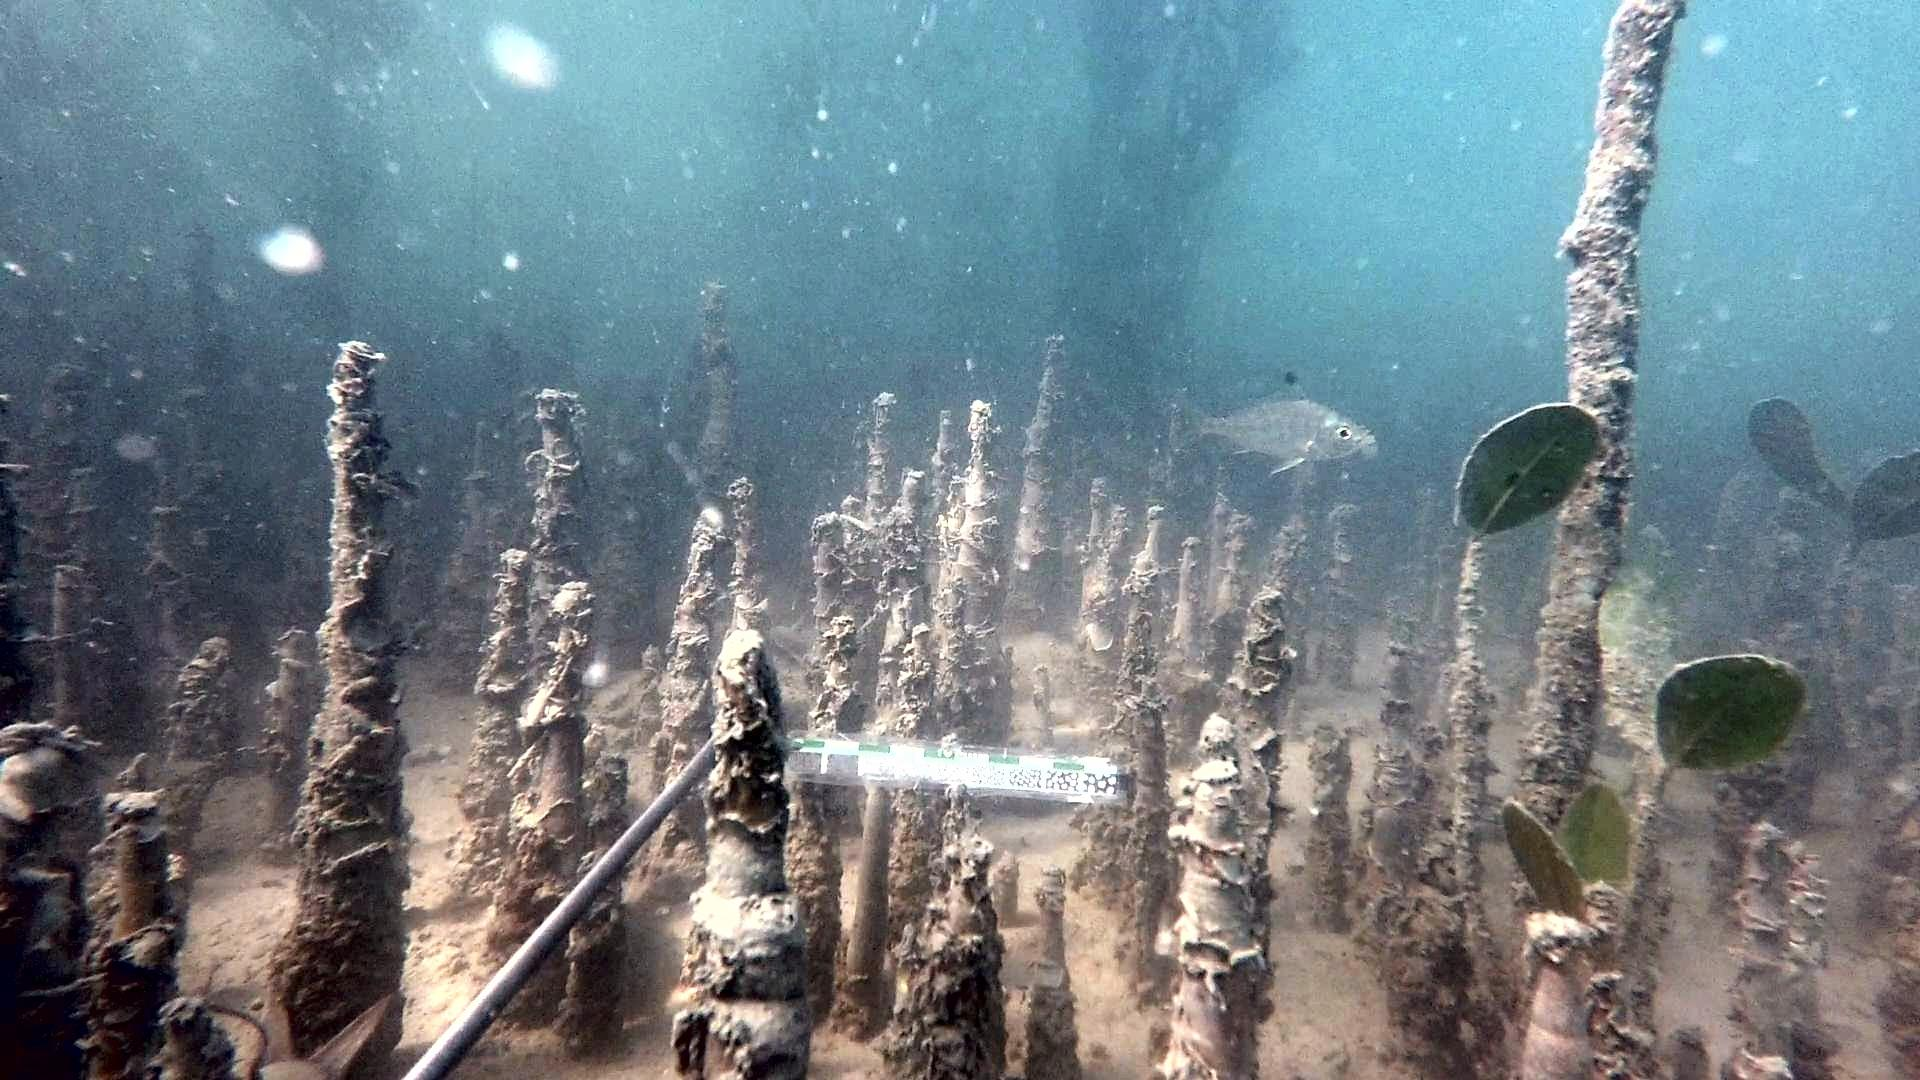gerres: (1167, 371, 1377, 477)
